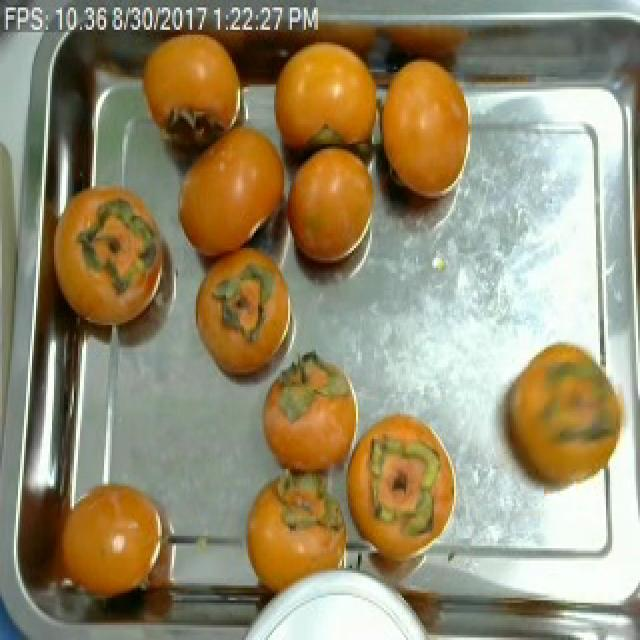Fruit: (0, 462, 178, 632), (490, 330, 632, 511), (50, 166, 188, 347), (346, 399, 474, 583), (162, 109, 286, 273), (124, 27, 256, 169), (182, 245, 300, 402), (230, 461, 350, 608), (378, 44, 476, 216), (270, 27, 380, 176), (284, 132, 380, 298), (248, 354, 364, 488)
